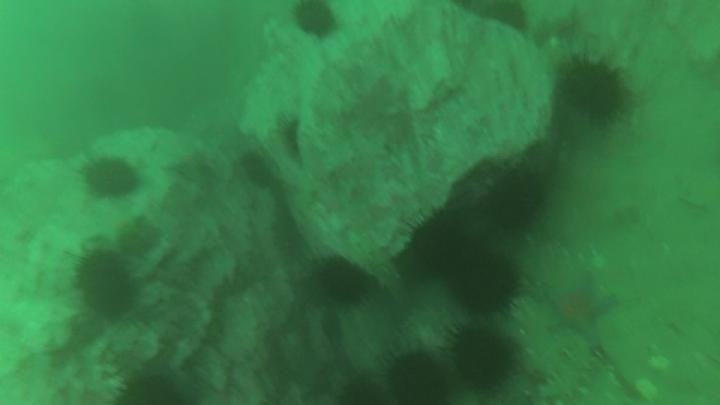echinus: (451, 251, 518, 319), (563, 62, 627, 126), (77, 256, 138, 321), (452, 334, 516, 387), (491, 174, 546, 233), (387, 353, 449, 405), (414, 213, 465, 270), (321, 260, 368, 305), (84, 161, 136, 197), (295, 2, 335, 36), (338, 382, 386, 405)
holothurian: (536, 348, 593, 405)
starfish: (544, 275, 611, 345)
